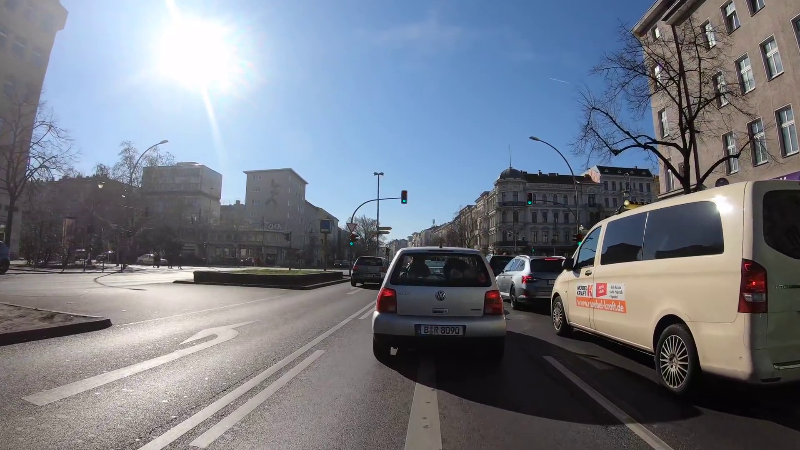Plate: (413, 323, 464, 338)
